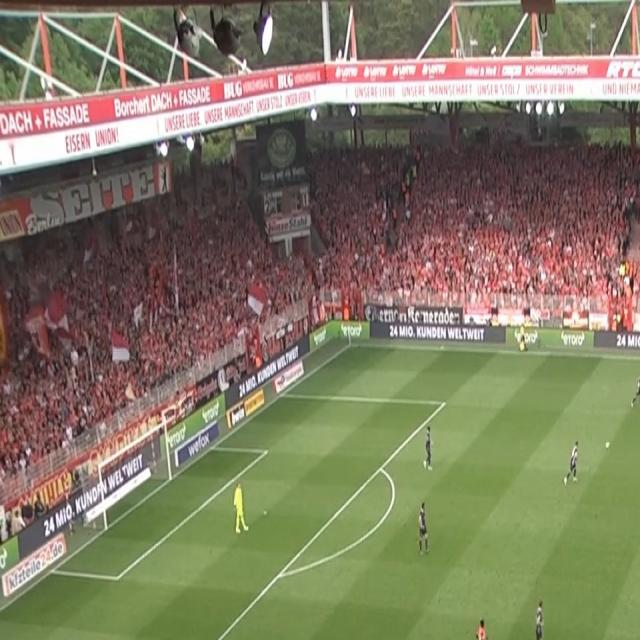ball: (605, 440, 611, 450)
